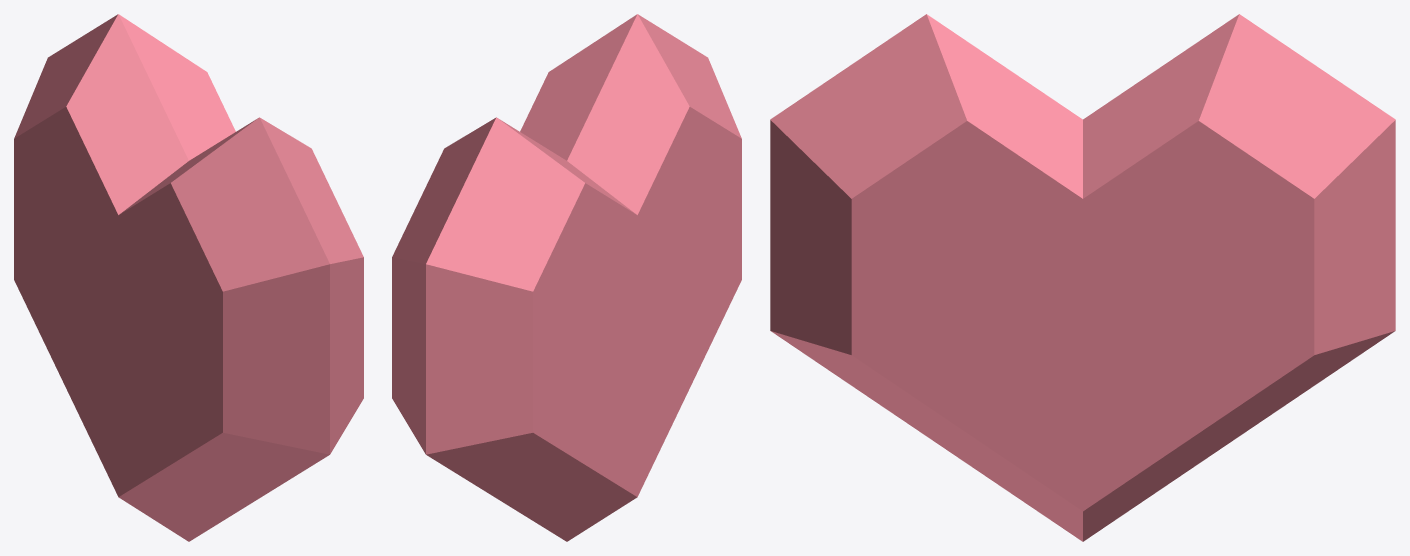
File: heart.glb
3 renders of one model, left to right at view 1: azimuth 30°, elevation 25°; view 2: azimuth 150°, elevation 25°; view 3: azimuth 270°, elevation 25°, orthographic. The views are drawn at different scales.
Visible parts, largest first — view 1: coin; view 2: coin; view 3: coin.
Part boxes in pixels (left/top/right/bottom): coin: left=14, top=14, right=363, bottom=541; coin: left=392, top=14, right=741, bottom=541; coin: left=770, top=14, right=1395, bottom=541.
Bounding box in the file's own units: 0.119 × 0.3839 × 0.4122.
